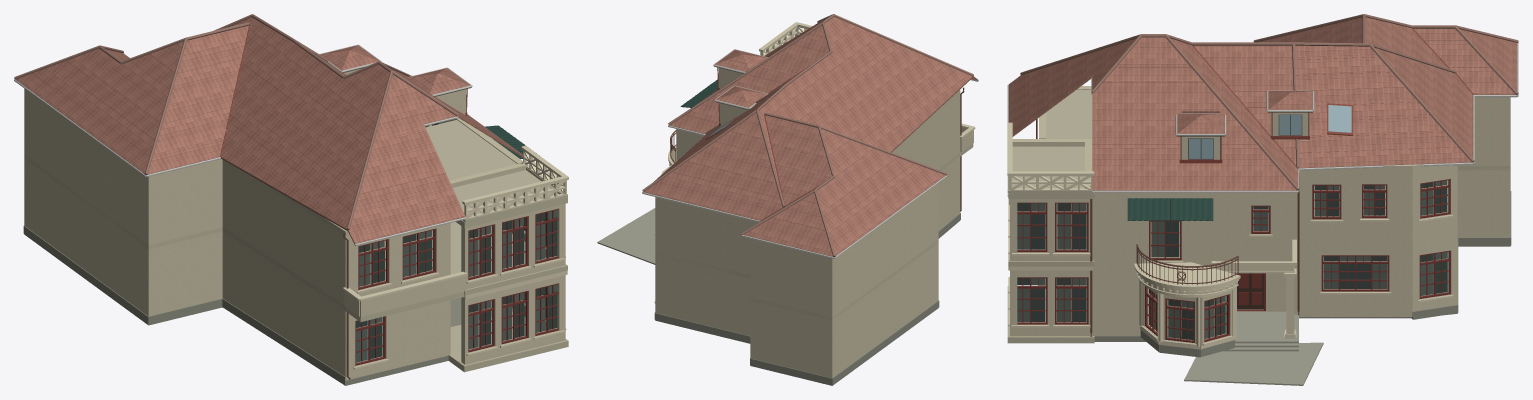
File: changning-yuyuan-1055-huang-family-garden-residence-lod.glb
3 renders of one model, left to right at view 1: azimuth 30°, elevation 25°; view 2: azimuth 150°, elevation 25°; view 3: azimuth 270°, elevation 25°, orthographic. The views are drawn at different scales.
Parts seen in each view (by area): view 1: 愚园路1055号黄家花园住宅; view 2: 愚园路1055号黄家花园住宅; view 3: 愚园路1055号黄家花园住宅.
Boxes of the visible parts, x1=… form: 愚园路1055号黄家花园住宅: x1=14, y1=14, x2=568, y2=385; 愚园路1055号黄家花园住宅: x1=597, y1=14, x2=978, y2=385; 愚园路1055号黄家花园住宅: x1=1007, y1=14, x2=1518, y2=385.
Size of the model in its own units: 19.44 by 12.35 by 22.33.
19 materials, 2 textured.
